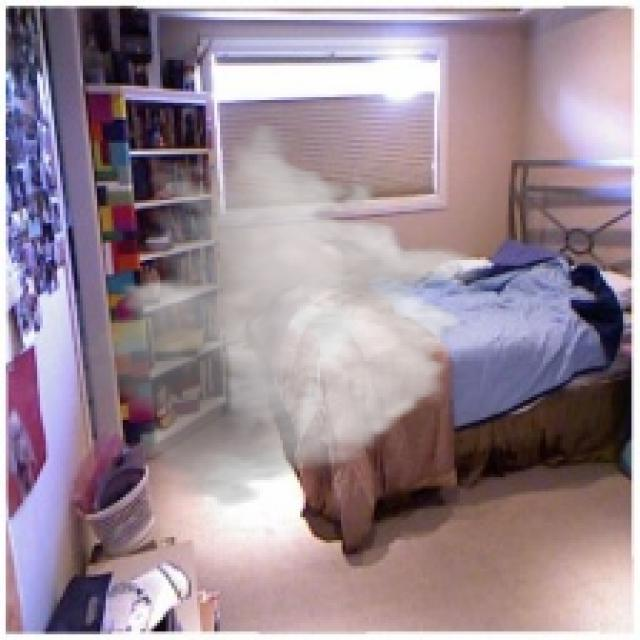Smoke: (74, 120, 494, 509)
